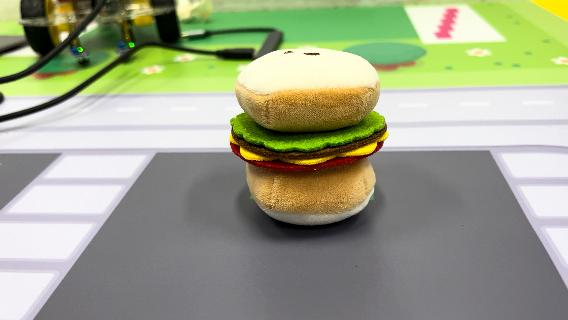sandwich: (228, 45, 390, 227)
